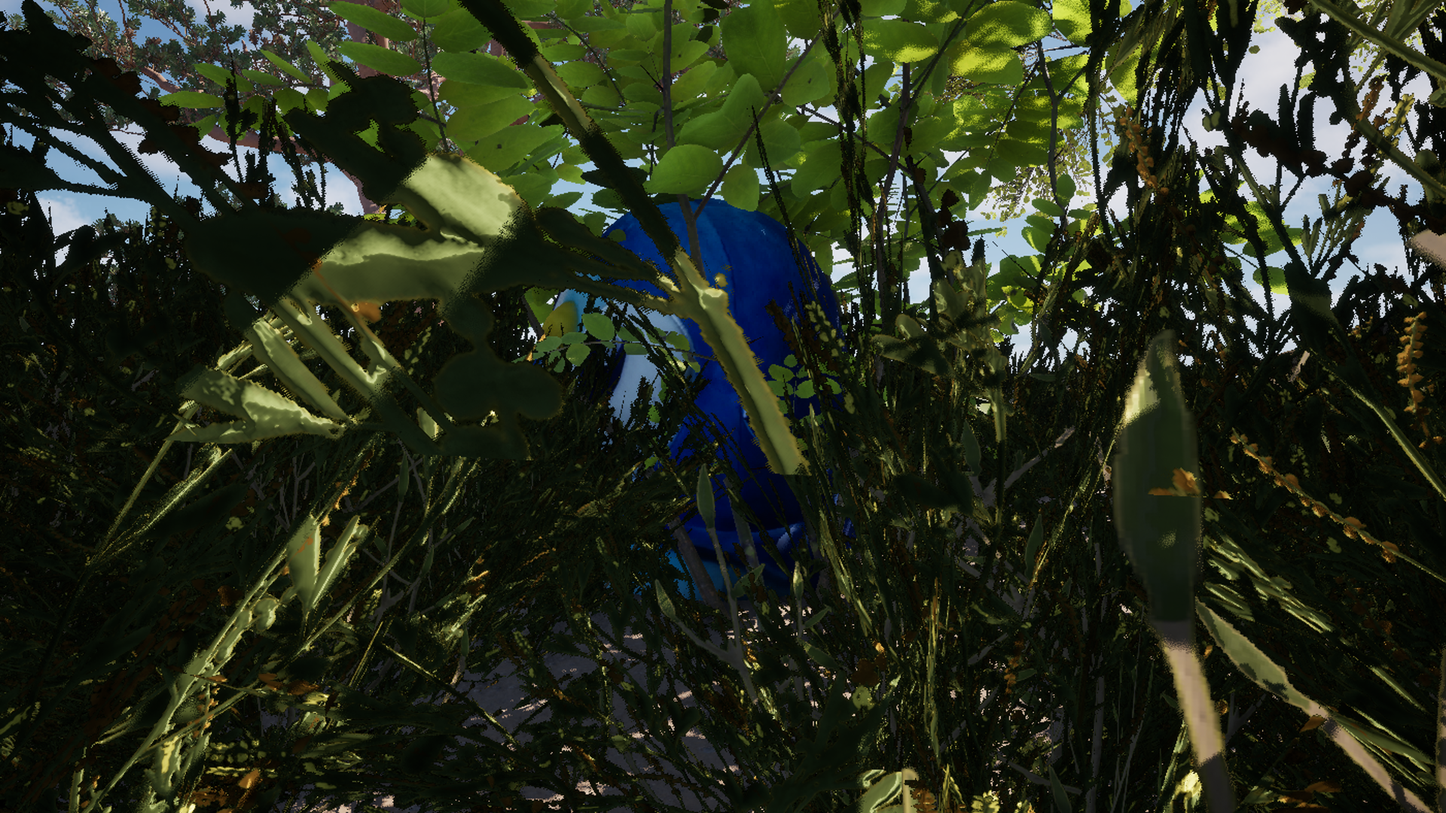Piplup: (521, 0, 1088, 813)
